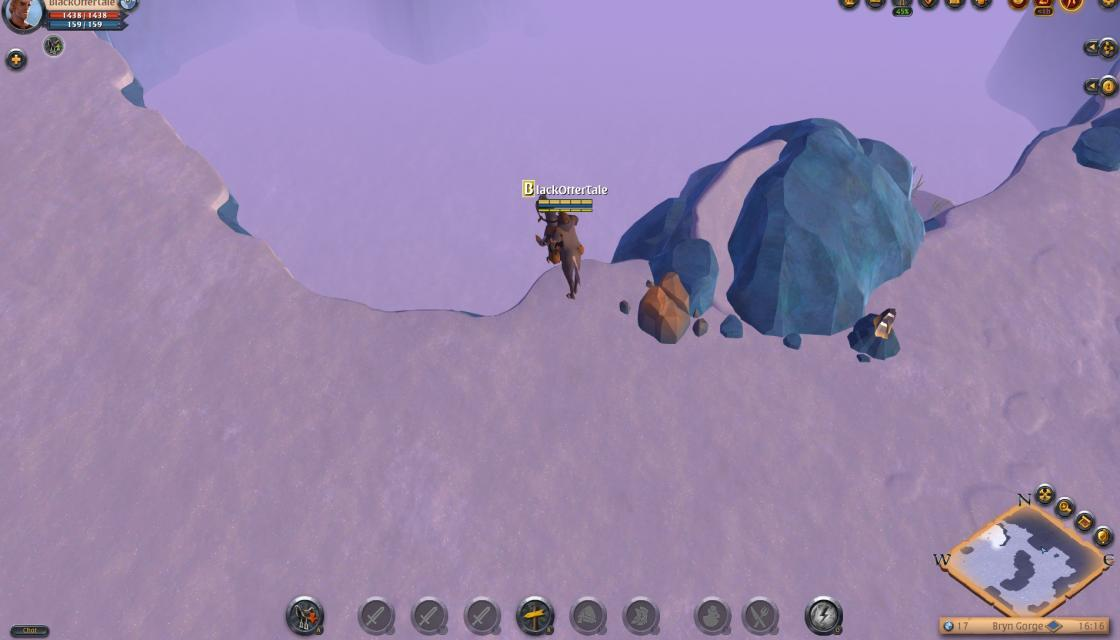copperore: (842, 298, 904, 363)
limestone: (634, 265, 699, 348)
